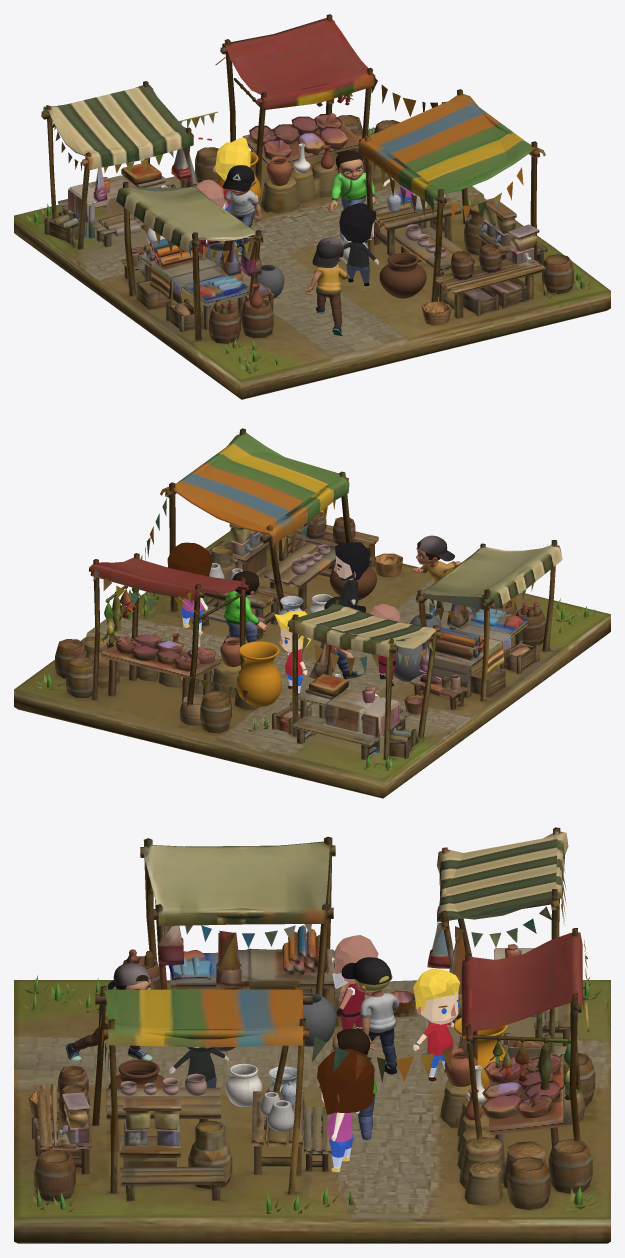
The model's file is feirapessoas.glb.
3 views of the same model, one above another, from view 1: azimuth 30°, elevation 25°; view 2: azimuth 150°, elevation 25°; view 3: azimuth 270°, elevation 25° (orthographic). The views are drawn at different scales.
Parts seen in each view (by area): view 1: tripo_node_5d982dba-4311-4edf-b0d1-eee6b316cf4f, Packobjcleanermaterialmergergles, characters_packobjcleanermaterialmergergles, vasoobjcleanermaterialmergergles, Vase_LP010, Vase_LP009; view 2: tripo_node_5d982dba-4311-4edf-b0d1-eee6b316cf4f, characters_packobjcleanermaterialmergergles, Packobjcleanermaterialmergergles, Cilindro, Vase_HP010, vasoobjcleanermaterialmergergles, Vaso_3, Vase_LP009; view 3: tripo_node_5d982dba-4311-4edf-b0d1-eee6b316cf4f, characters_packobjcleanermaterialmergergles, Packobjcleanermaterialmergergles, Vase_HP010, Vase_LP002, vasoobjcleanermaterialmergergles, Vaso_3, Cilindro, Vase_LP009, Vase_HP001.
Boxes of the visible parts, <box> form: tripo_node_5d982dba-4311-4edf-b0d1-eee6b316cf4f: <box>14,14,610,399</box>; Packobjcleanermaterialmergergles: <box>222,150,375,335</box>; characters_packobjcleanermaterialmergergles: <box>196,137,413,285</box>; vasoobjcleanermaterialmergergles: <box>379,253,426,298</box>; Vase_LP010: <box>256,264,284,298</box>; Vase_LP009: <box>267,156,291,185</box>; tripo_node_5d982dba-4311-4edf-b0d1-eee6b316cf4f: <box>14,428,610,798</box>; characters_packobjcleanermaterialmergergles: <box>167,542,400,694</box>; Packobjcleanermaterialmergergles: <box>223,535,461,679</box>; Cilindro: <box>236,641,281,706</box>; Vase_HP010: <box>393,644,422,681</box>; vasoobjcleanermaterialmergergles: <box>330,567,376,600</box>; Vaso_3: <box>291,544,330,575</box>; Vase_LP009: <box>220,637,240,666</box>; tripo_node_5d982dba-4311-4edf-b0d1-eee6b316cf4f: <box>14,827,610,1243</box>; characters_packobjcleanermaterialmergergles: <box>169,935,460,1172</box>; Packobjcleanermaterialmergergles: <box>66,957,399,1139</box>; Vase_HP010: <box>302,993,336,1046</box>; Vase_LP002: <box>225,1063,262,1106</box>; vasoobjcleanermaterialmergergles: <box>108,1059,164,1088</box>; Vaso_3: <box>120,1073,206,1095</box>; Cilindro: <box>454,1017,507,1088</box>; Vase_LP009: <box>444,1048,477,1086</box>; Vase_HP001: <box>267,1100,294,1131</box>.
Size of the model in its own units: 0.9566 by 0.3823 by 0.9995.
Materials: 35 (33 with a texture image).
